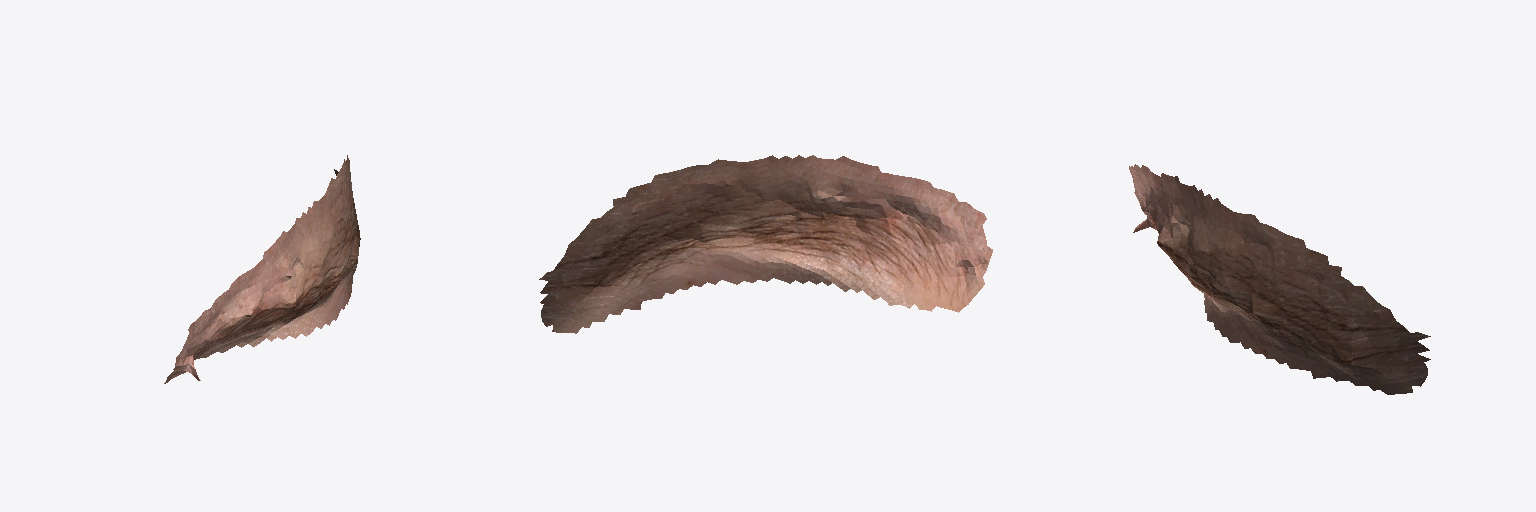
The picture shows the model from 3 angles: view 1: azimuth 30°, elevation 25°; view 2: azimuth 150°, elevation 25°; view 3: azimuth 270°, elevation 25°; orthographic projection.
Parts seen in each view (by area): view 1: default; view 2: default; view 3: default.
Part boxes in pixels (bbox=[...]): default: bbox=[164, 155, 360, 383]; default: bbox=[539, 155, 992, 333]; default: bbox=[1129, 164, 1430, 394].
Bounding box in the file's own units: 45.12 × 20.22 × 38.61.
1 materials, 1 textured.